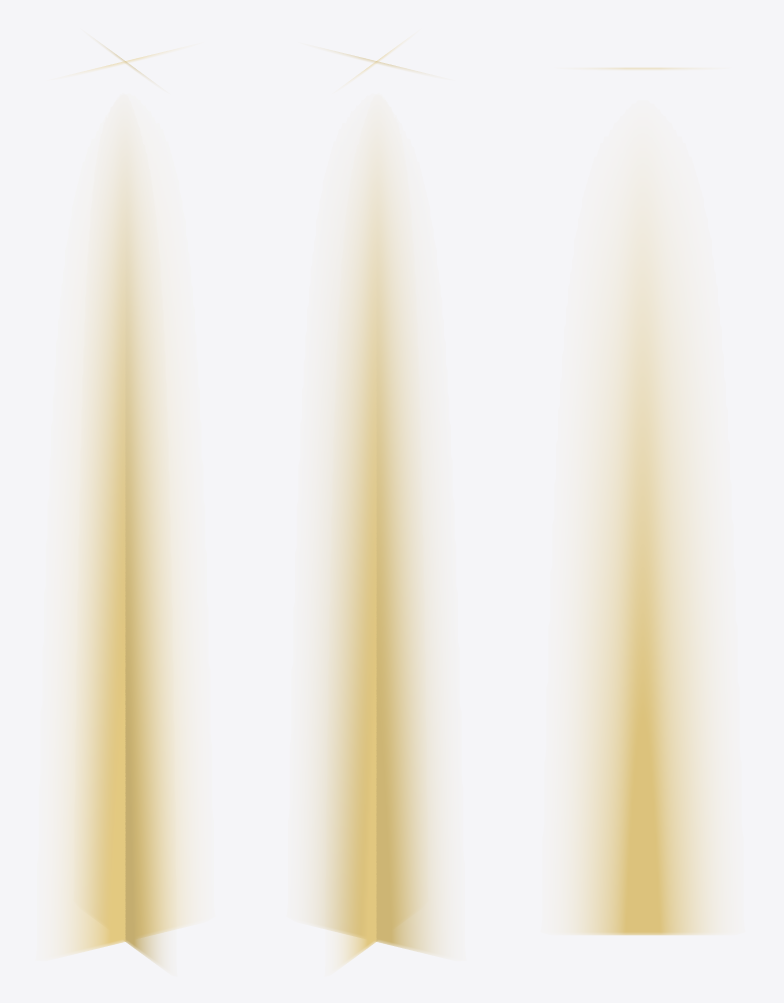
Rendered from mwm_diskbeam_g.glb.
3 renders of one model, left to right at view 1: azimuth 30°, elevation 25°; view 2: azimuth 150°, elevation 25°; view 3: azimuth 270°, elevation 25°, orthographic.
Parts seen in each view (by area): view 1: diskbeam_g; view 2: diskbeam_g; view 3: diskbeam_g.
Boxes of the visible parts, x1,y1,x2,y2 form: diskbeam_g: [60, 43, 190, 965]; diskbeam_g: [311, 43, 441, 965]; diskbeam_g: [569, 67, 716, 935].
Size of the model in its own units: 0.9 by 3.4 by 0.9.
1 material, 1 textured.
